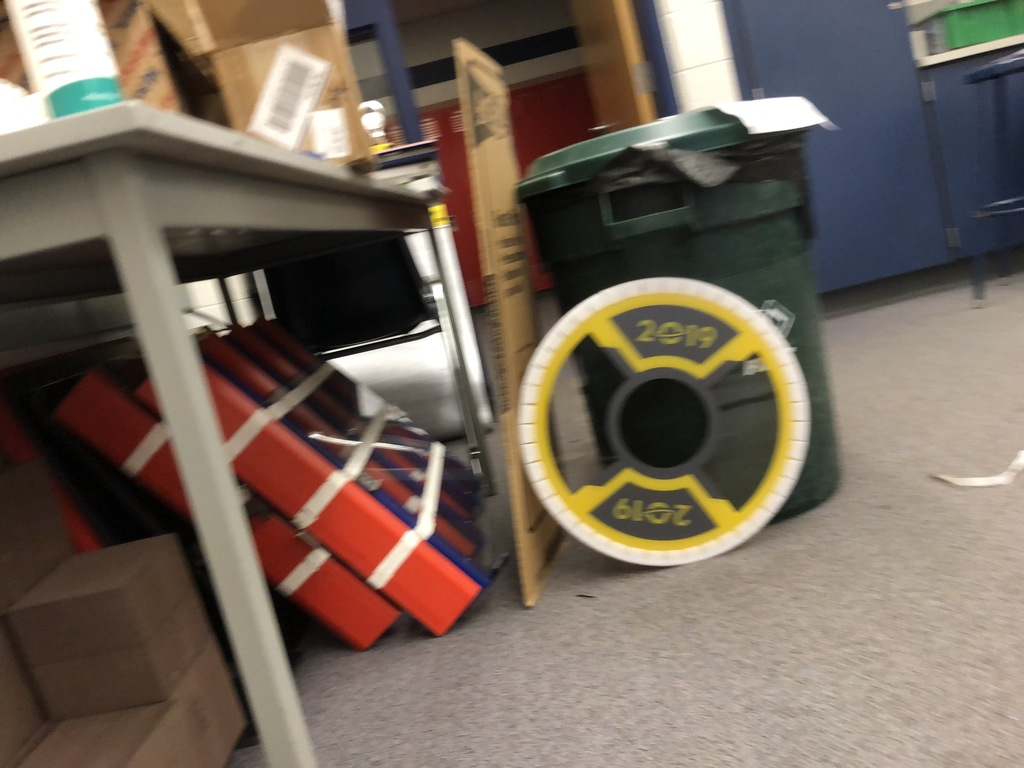hatch_panel: (499, 270, 836, 587)
